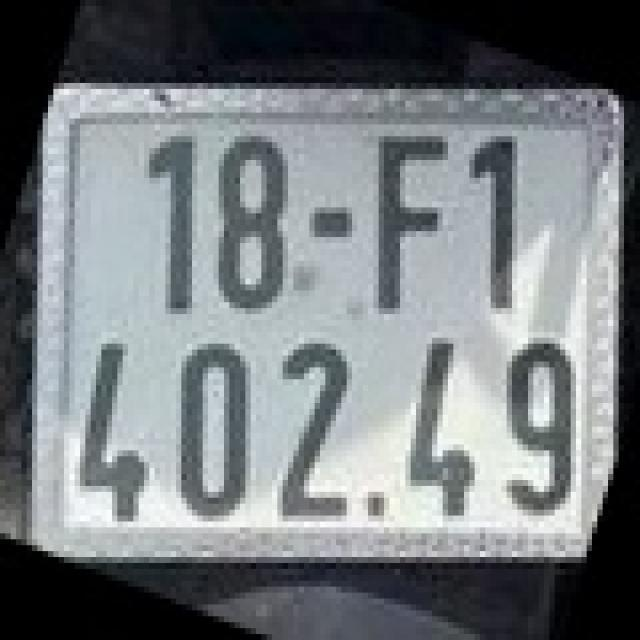0: (171, 332, 256, 522)
1: (464, 124, 534, 314), (138, 124, 208, 314)
2: (272, 332, 358, 522)
4: (394, 332, 486, 522), (69, 332, 155, 527)
8: (214, 124, 294, 314)
9: (496, 332, 582, 516)
F: (363, 124, 453, 314)
